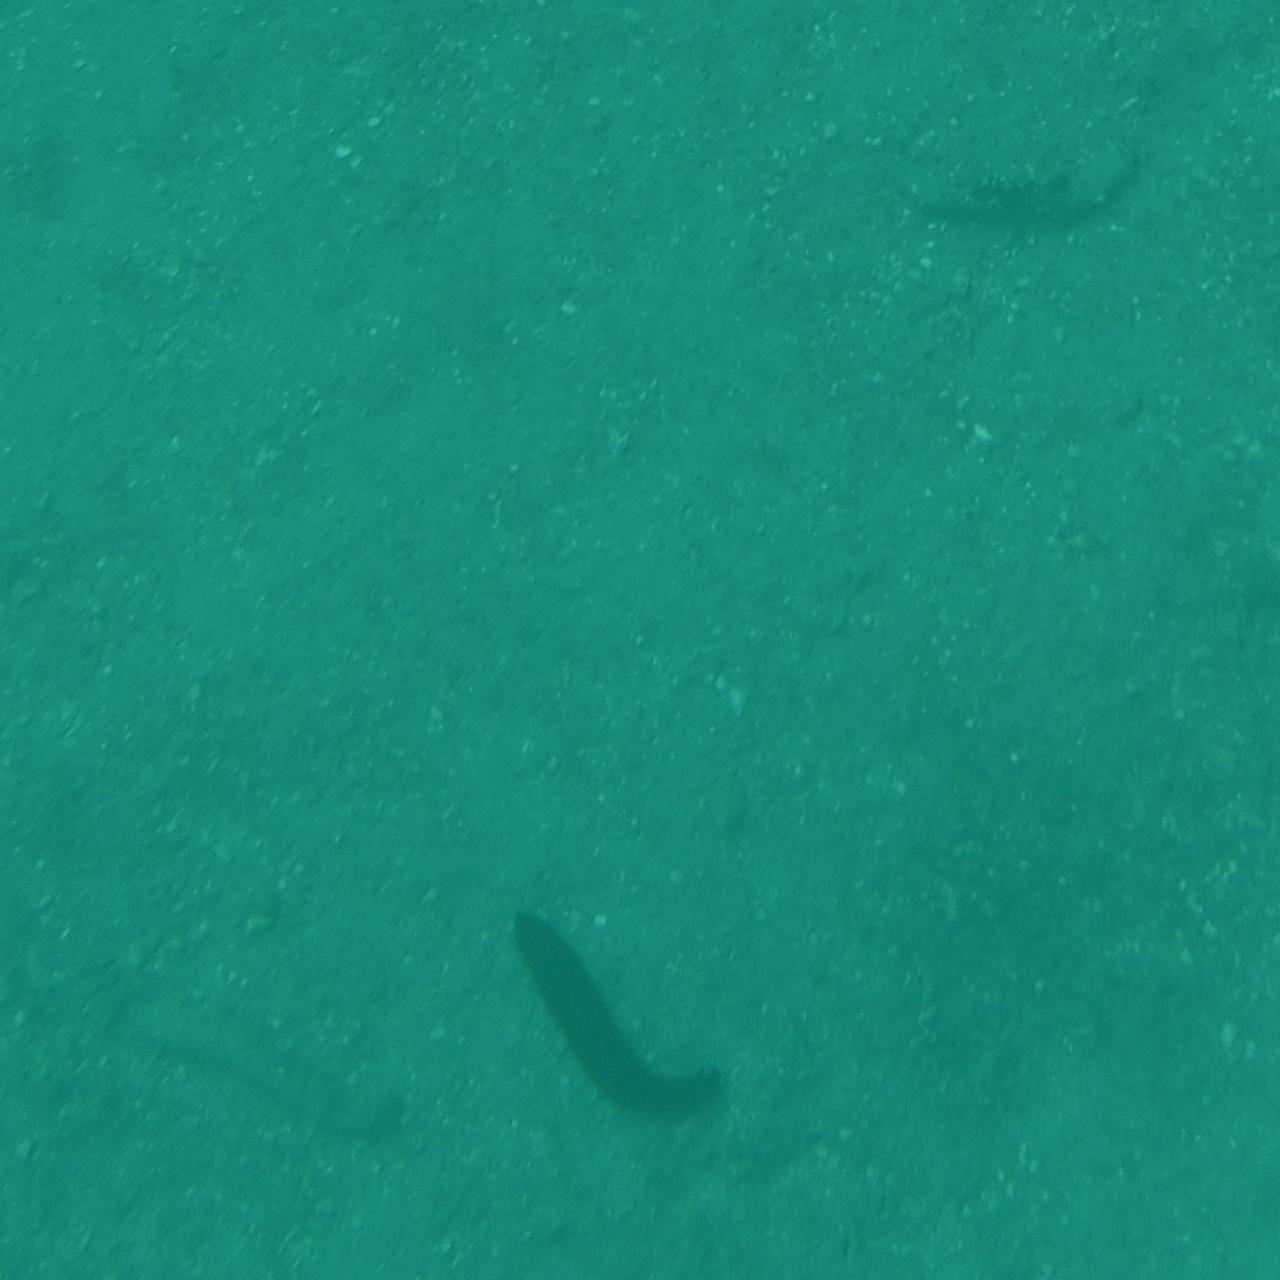Holothuria tubulosa: (511, 899, 742, 1150), (97, 993, 427, 1156), (896, 162, 1141, 252)
